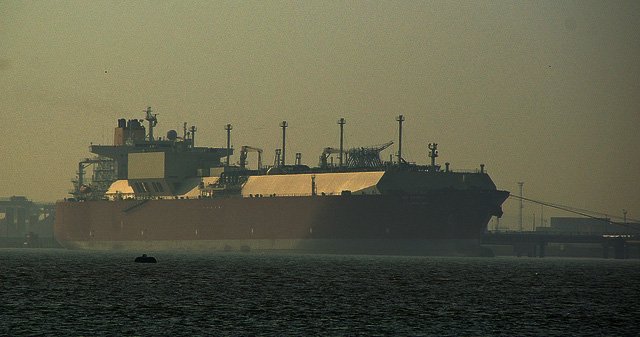LNG_ship: (50, 107, 514, 261)
